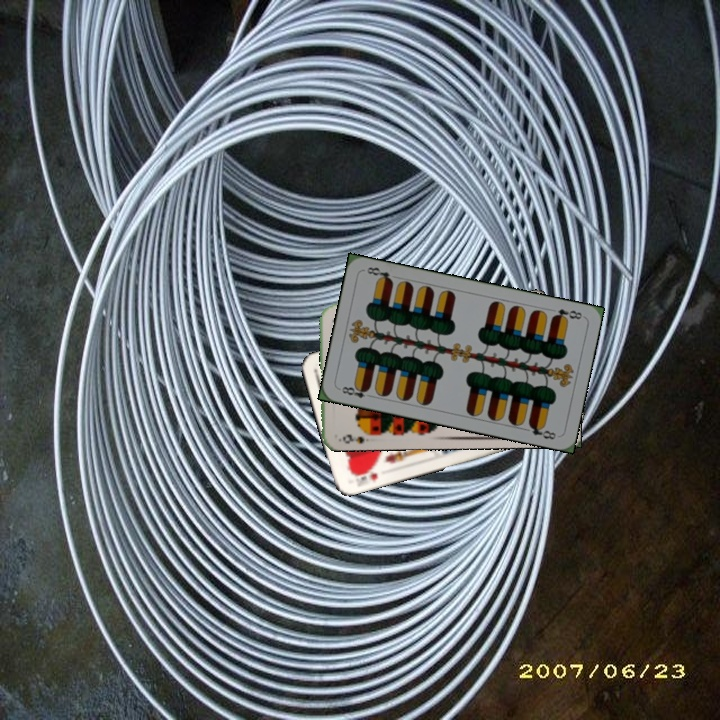E8: (337, 381, 376, 401), (548, 305, 585, 324)
HK: (348, 464, 380, 484)
S9: (339, 426, 376, 446)
